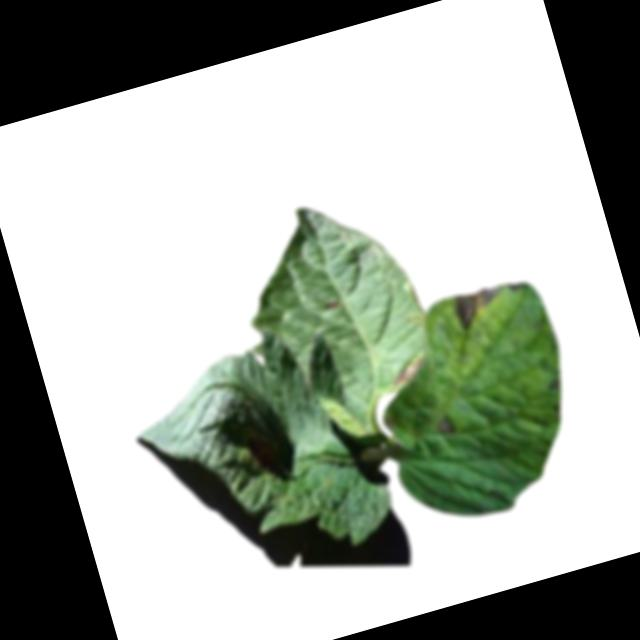Early_blight: (452, 275, 532, 332), (386, 350, 432, 389), (434, 410, 458, 437), (321, 296, 341, 313)
